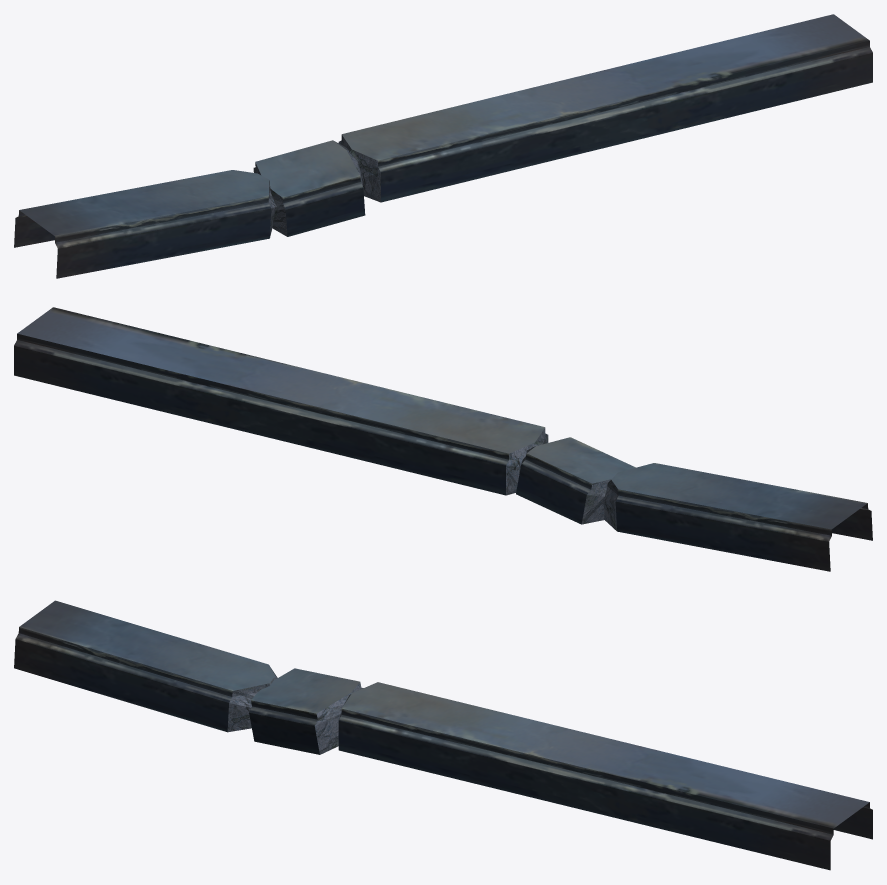
The model's file is HuBian_NightRailing06_FBX.FBX.
3 views of the same model, one above another, from view 1: azimuth 30°, elevation 25°; view 2: azimuth 150°, elevation 25°; view 3: azimuth 330°, elevation 25° (orthographic).
Parts seen in each view (by area): view 1: HuBian_NightRailing06_FBX; view 2: HuBian_NightRailing06_FBX; view 3: HuBian_NightRailing06_FBX.
Part boxes in pixels (box(x1,y1,x2,y2)): HuBian_NightRailing06_FBX: box(14, 14, 872, 278); HuBian_NightRailing06_FBX: box(14, 307, 872, 571); HuBian_NightRailing06_FBX: box(14, 600, 872, 870).
Size of the model in its own units: 1.84 by 0.126 by 0.1921.
